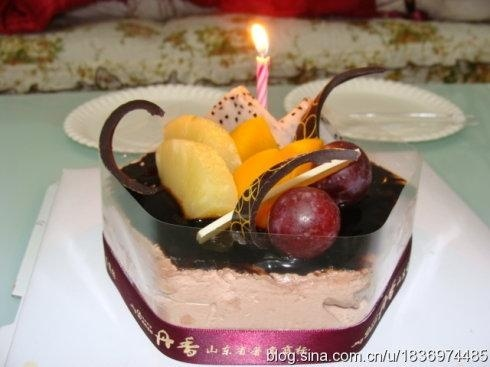fire: (246, 20, 270, 57)
